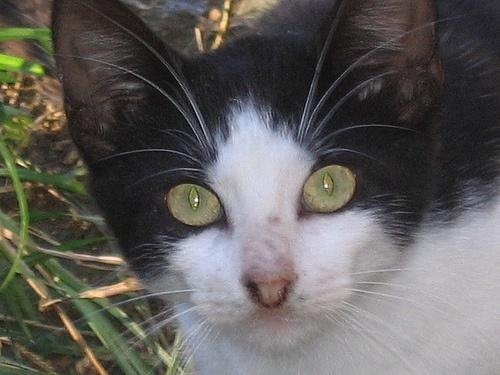cat: (50, 3, 500, 375)
